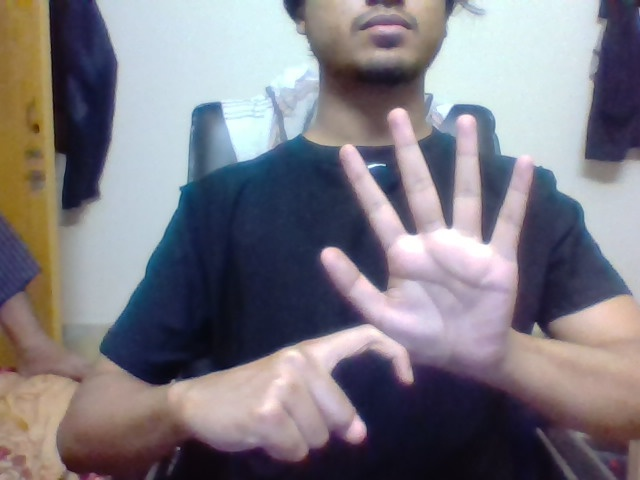R: (300, 318, 416, 445)
